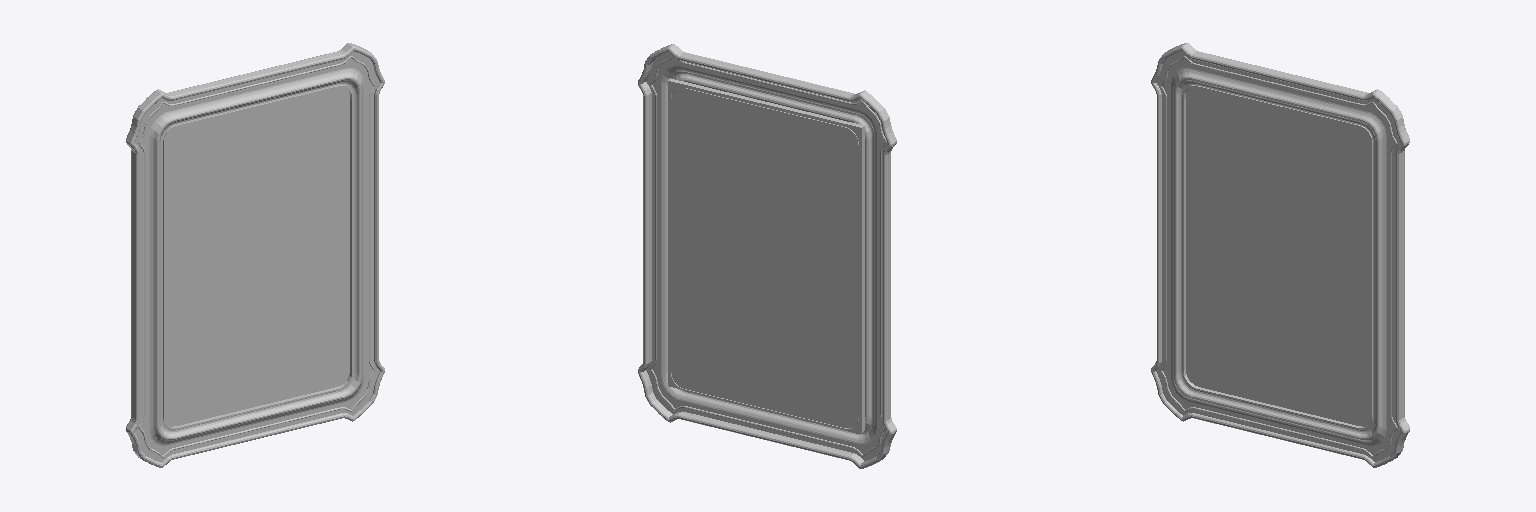
File: mirror_01_obj.obj
3 views of the same model, side by side, from view 1: azimuth 30°, elevation 25°; view 2: azimuth 150°, elevation 25°; view 3: azimuth 330°, elevation 25° (orthographic).
Visible parts, largest first — view 1: mirror; view 2: mirror; view 3: mirror.
Boxes of the visible parts, box(x1,y1,x2,y2) form: mirror: box(126, 43, 384, 467); mirror: box(638, 44, 896, 468); mirror: box(1151, 43, 1409, 467).
Bounding box in the file's own units: 723 × 1016 × 37.4.